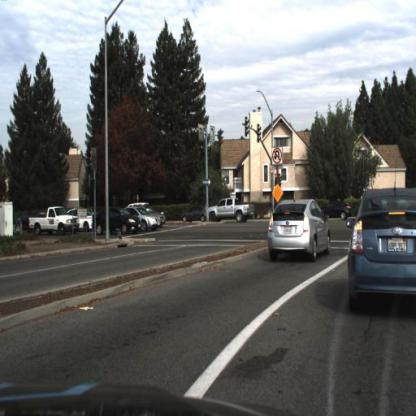car: (347, 182, 416, 312), (266, 196, 332, 260), (92, 204, 141, 236), (27, 205, 81, 234), (29, 208, 80, 234), (92, 208, 141, 235), (208, 197, 252, 223), (323, 197, 353, 223), (134, 206, 161, 231), (180, 205, 211, 226), (324, 199, 353, 220), (139, 211, 160, 232), (79, 212, 94, 235), (158, 211, 168, 227)
